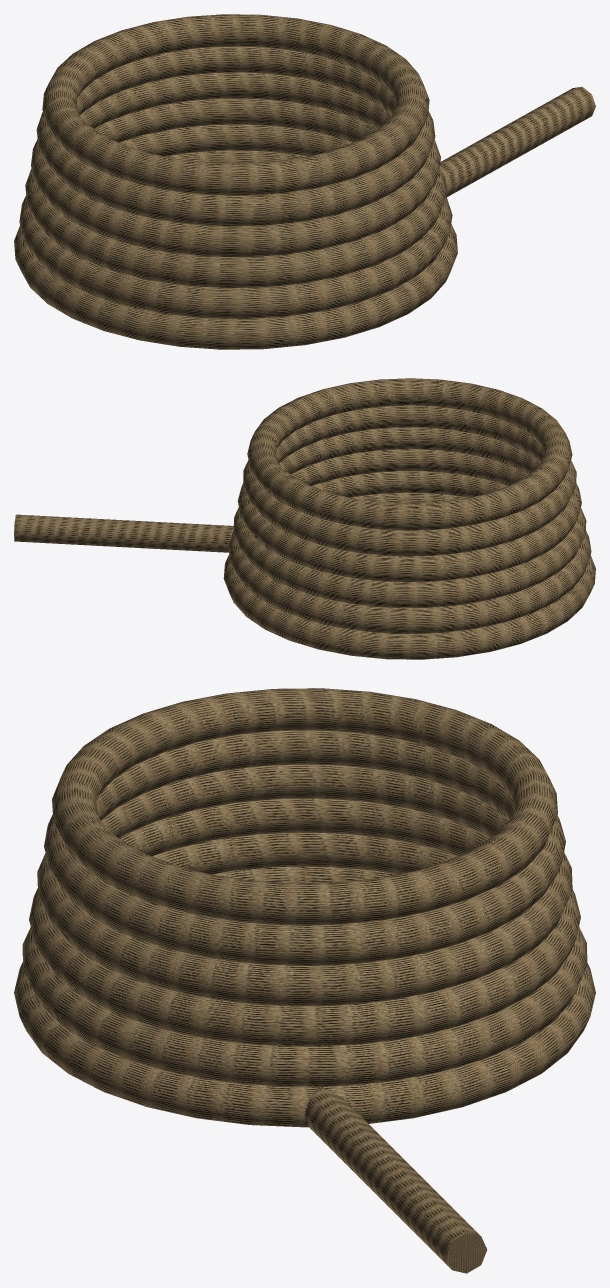
Rendered from coiled-rope-v01-photo.glb.
3 renders of one model, top to bottom at view 1: azimuth 30°, elevation 25°; view 2: azimuth 150°, elevation 25°; view 3: azimuth 270°, elevation 25°, orthographic. The views are drawn at different scales.
Visible parts, largest first — view 1: coiled-rope; view 2: coiled-rope; view 3: coiled-rope.
Boxes of the visible parts, x1,y1,x2,y2 form: coiled-rope: [14, 14, 595, 349]; coiled-rope: [14, 378, 595, 659]; coiled-rope: [14, 688, 595, 1273].
Size of the model in its own units: 1.23 by 0.335 by 0.78.
Materials: 1 (1 with a texture image).
